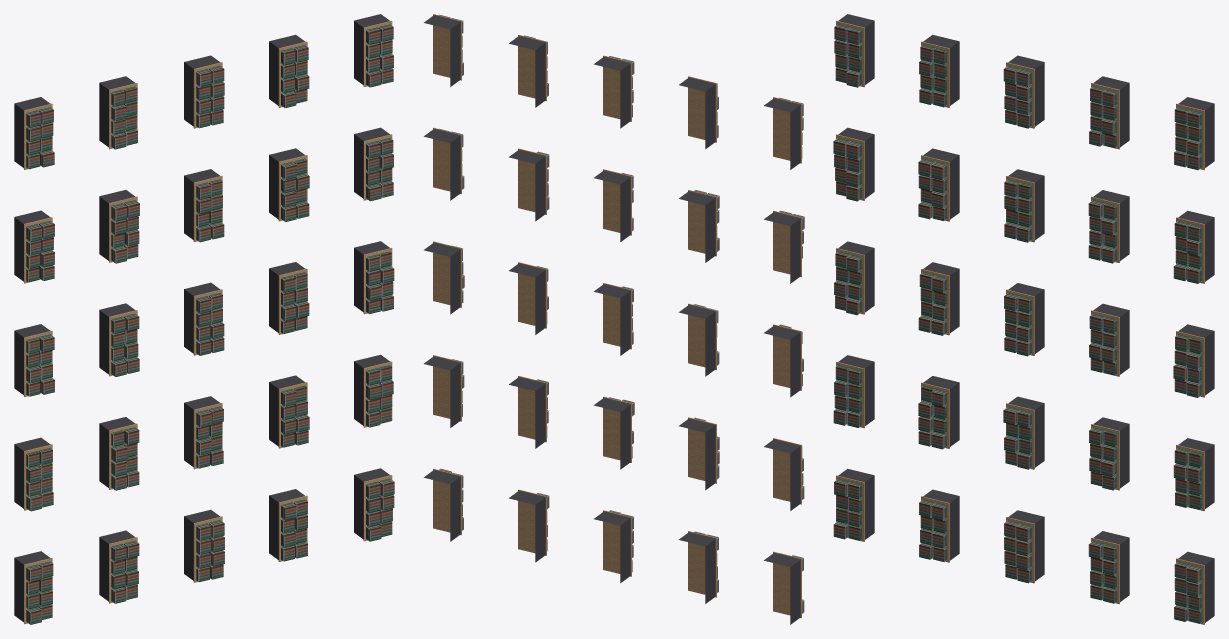
Rendered from tables_se.gltf.
3 renders of one model, left to right at view 1: azimuth 30°, elevation 25°; view 2: azimuth 150°, elevation 25°; view 3: azimuth 330°, elevation 25°, orthographic.
Visible parts, largest first — view 1: tables_se; view 2: tables_se; view 3: tables_se.
Part boxes in pixels (x1,y1,x2,y2): tables_se: (14,14,394,624); tables_se: (424,14,804,624); tables_se: (833,14,1214,624).
Size of the model in its own units: 15.6 by 20.8 by 1.14.
3 materials, 2 textured.
